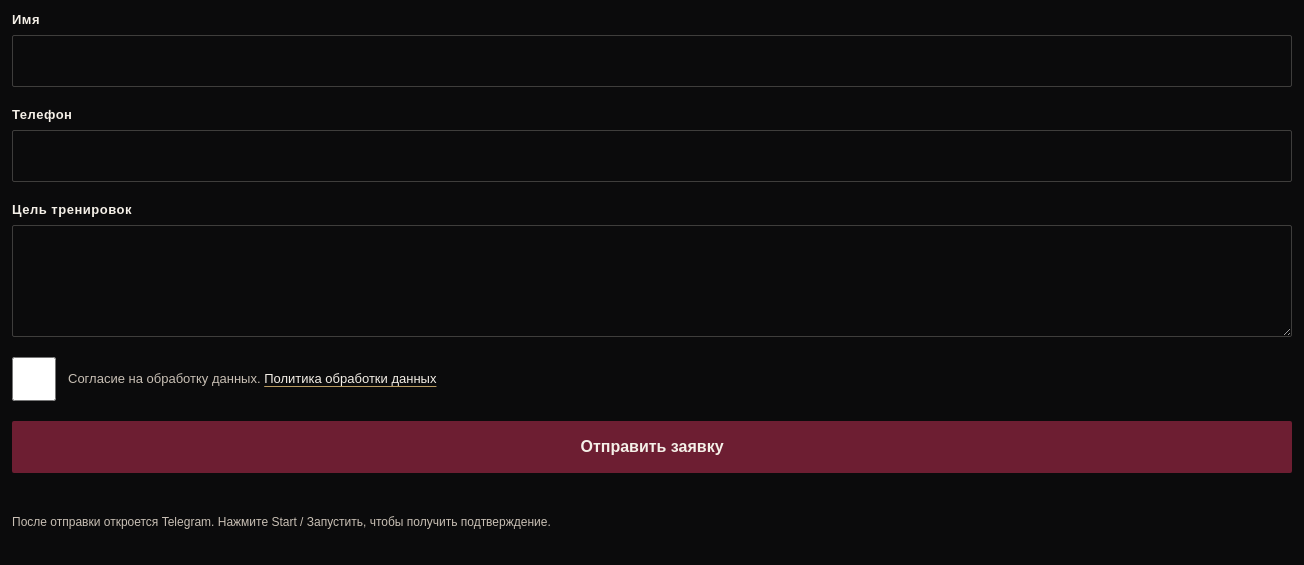
Test: LeadForm › announces a generic 422 when the server has no field error
The width and height of the screenshot is (1304, 565).
Type "Анна Иванова" into the field labelled "Имя" at (652, 61), box [12, 35, 1292, 87]
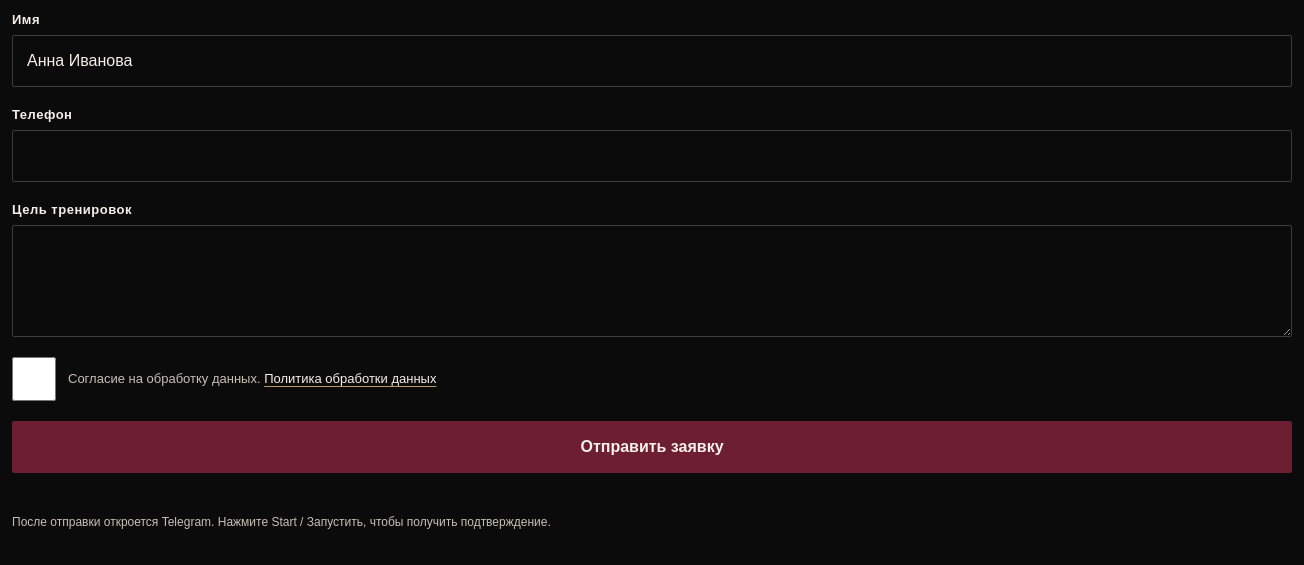
Type "+7 900 000-00-00" into the field labelled "Телефон" at (652, 156), box [12, 130, 1292, 182]
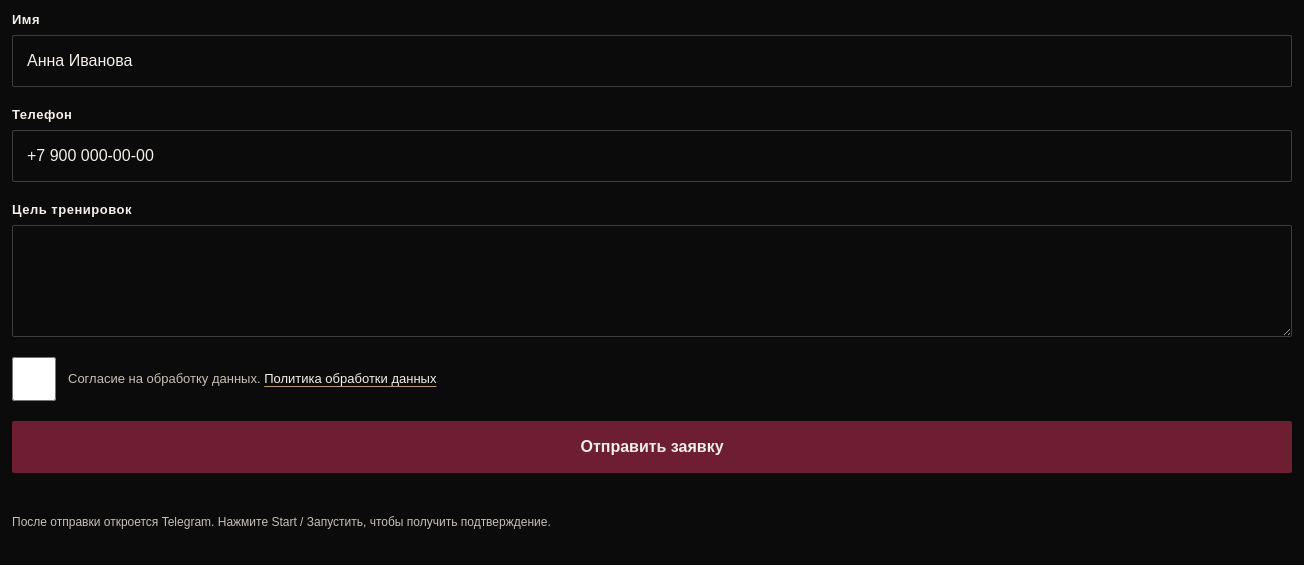
Click the checkbox labelled "Согласие на обработку данных. Политика обработки данных" at (34, 379), box [12, 357, 56, 401]
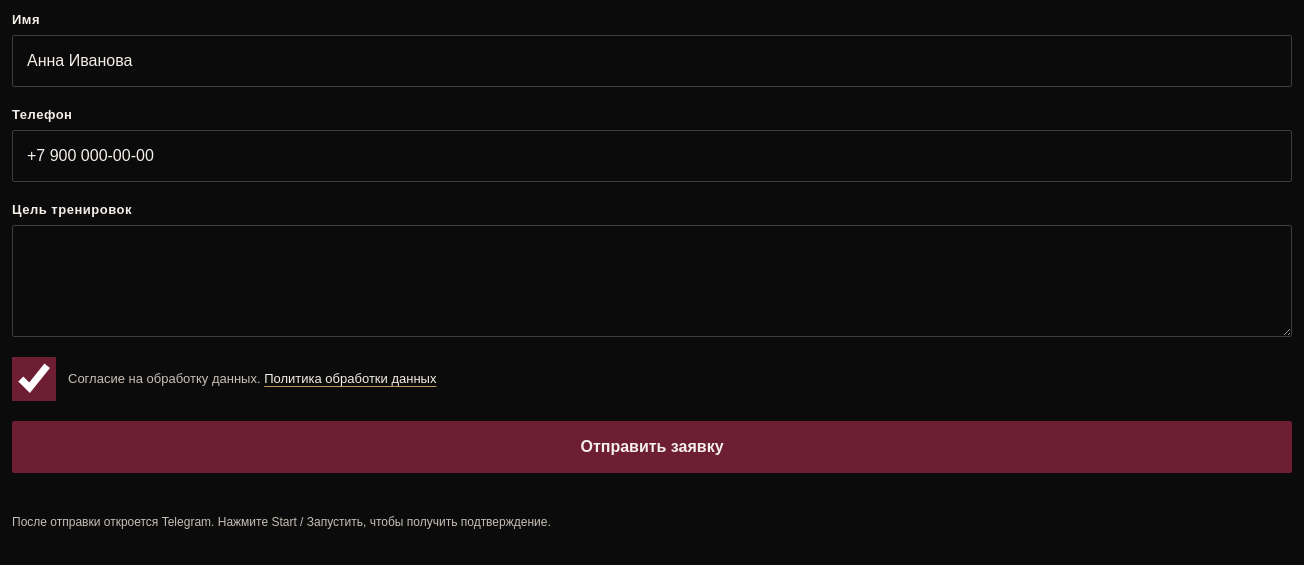
Click the button "Отправить заявку" at (652, 447), box [12, 421, 1292, 473]
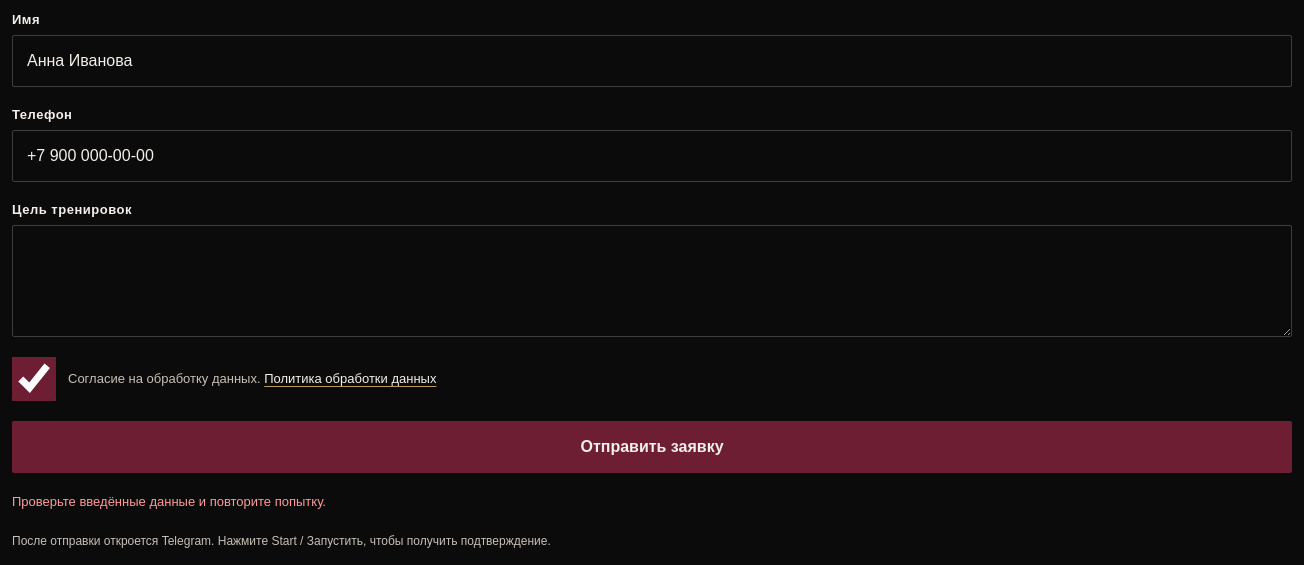
expect the message reads "Проверьте введённые данные и повторите попытку.": met, box [12, 494, 326, 509]
